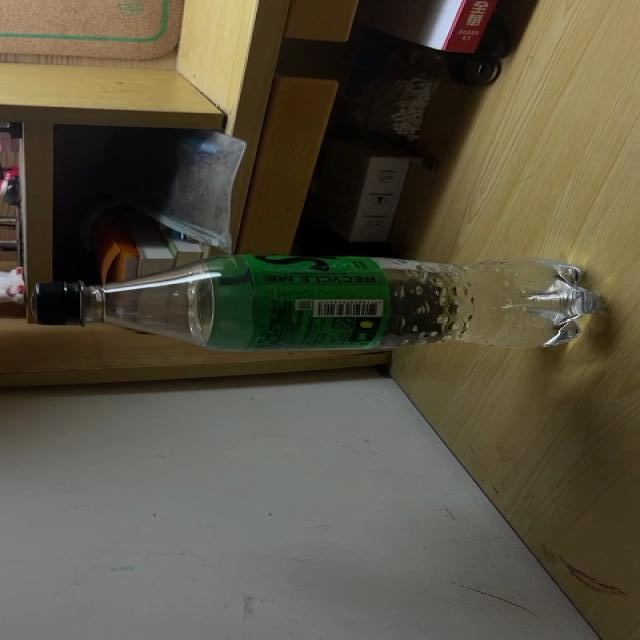Sprite: (33, 254, 605, 352)
